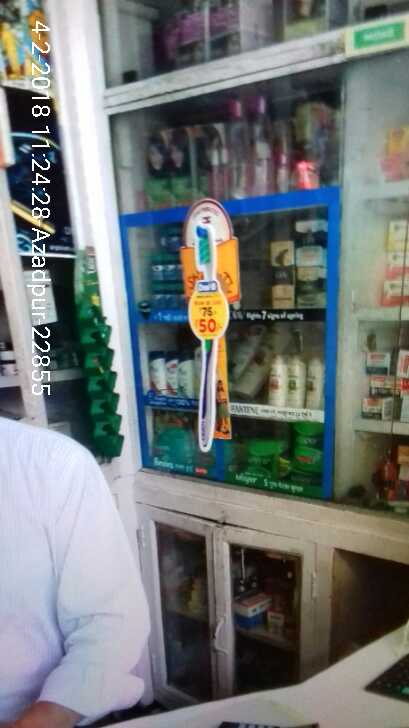vicks: (150, 227, 193, 293)
